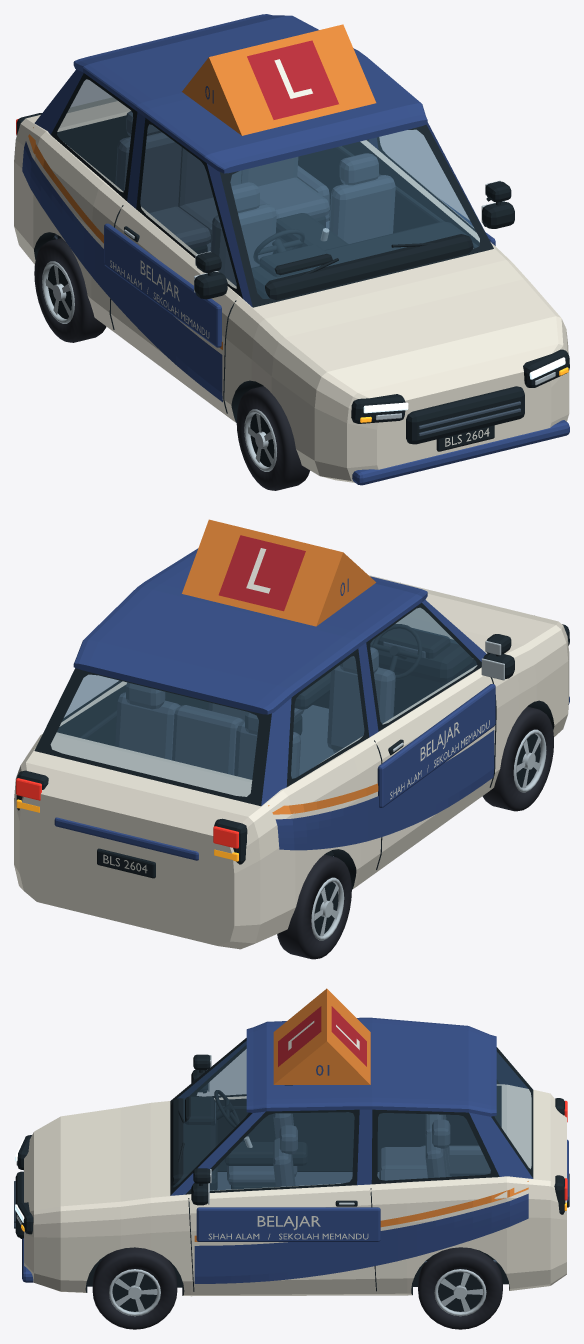
3 renders of one model, top to bottom at view 1: azimuth 30°, elevation 25°; view 2: azimuth 150°, elevation 25°; view 3: azimuth 270°, elevation 25°, orthographic. The views are drawn at different scales.
Parts seen in each view (by area): view 1: Shah Alam Learner Hatch; view 2: Shah Alam Learner Hatch; view 3: Shah Alam Learner Hatch.
Part boxes in pixels (box(x1,y1,x2,y2)): Shah Alam Learner Hatch: box(14, 14, 569, 490); Shah Alam Learner Hatch: box(14, 519, 569, 959); Shah Alam Learner Hatch: box(14, 988, 569, 1329).
Bounding box in the file's own units: 1.94 × 1.93 × 3.69.
